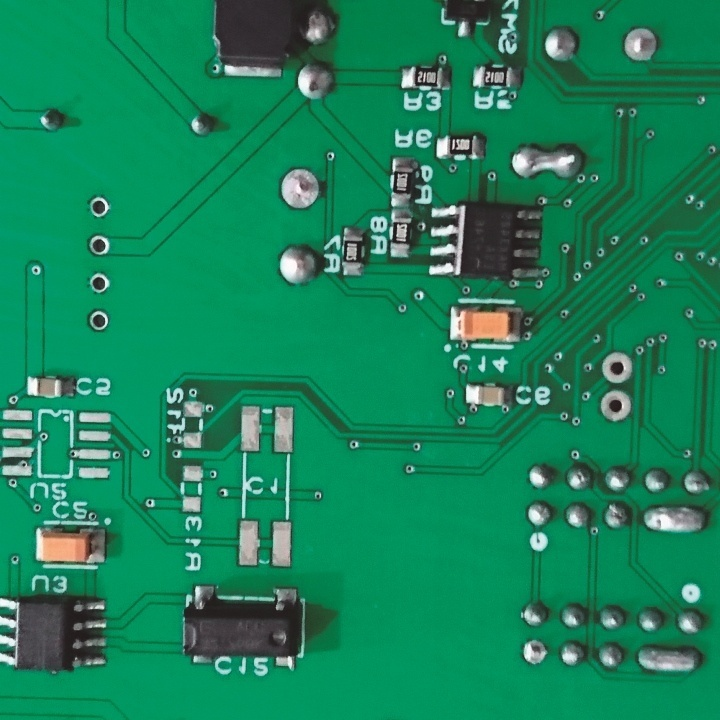F: (276, 166, 321, 212), (621, 26, 660, 64), (596, 390, 633, 423), (602, 348, 633, 387), (519, 638, 550, 669), (85, 194, 112, 220), (87, 307, 111, 335), (85, 234, 110, 258), (88, 269, 110, 295)
P: (507, 141, 587, 183), (633, 641, 705, 676), (638, 502, 705, 538)
